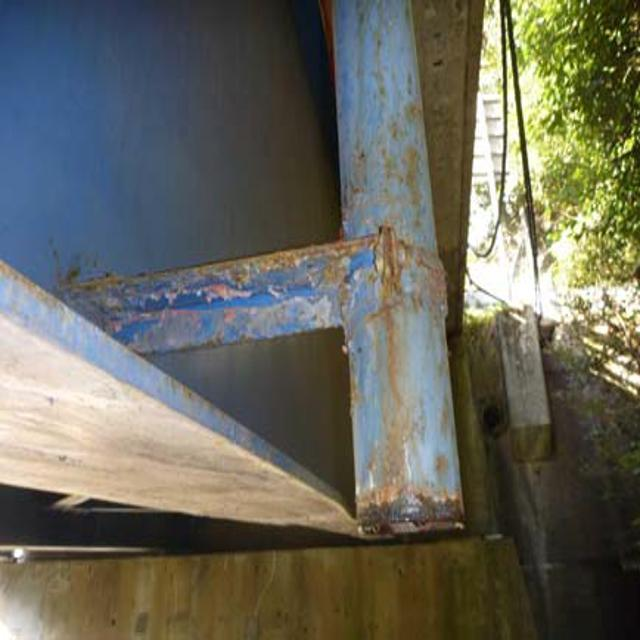corrosion: (137, 239, 477, 530)
